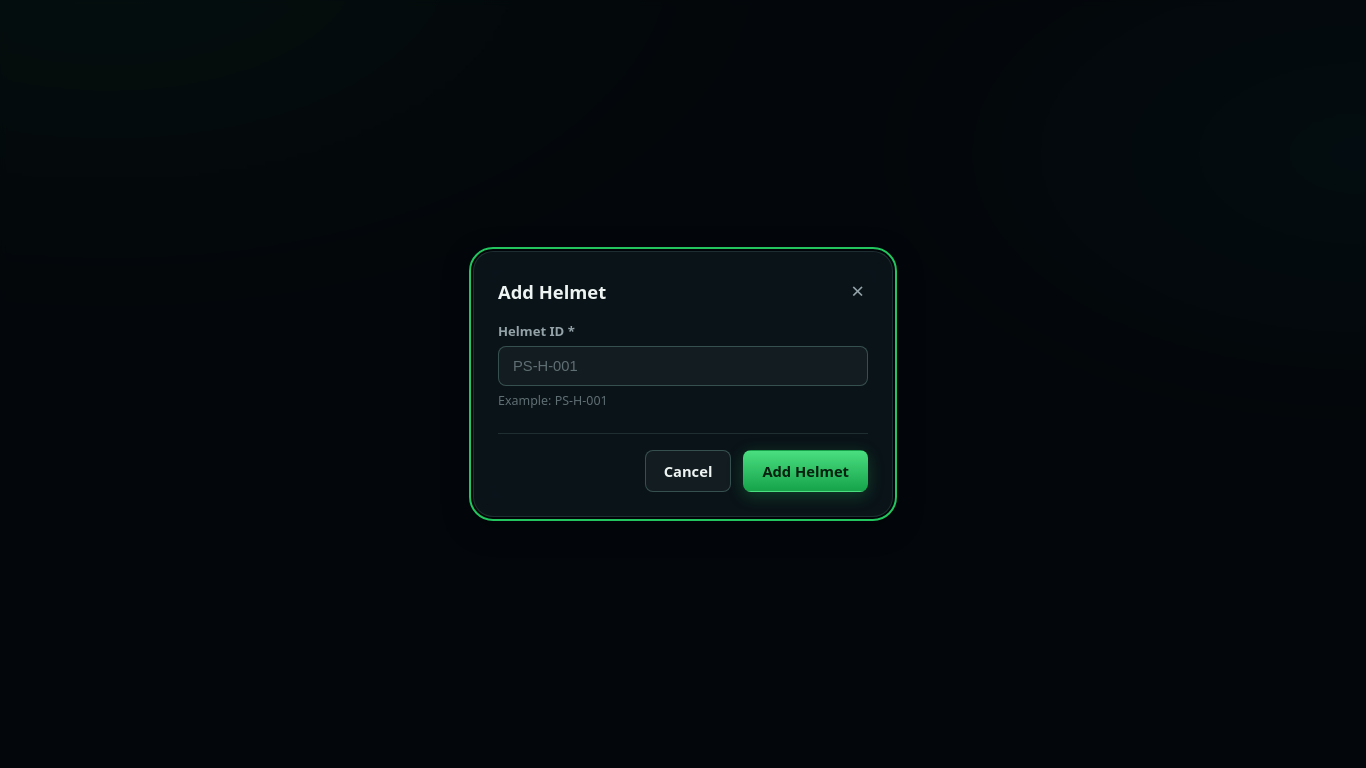
Test: AddHelmetModal › shows 'Helmet ID already exists' on a 409 without a generic toast
Type "PS-H-DUP" into the field labelled "Helmet ID *" at (683, 366), box [498, 346, 868, 386]
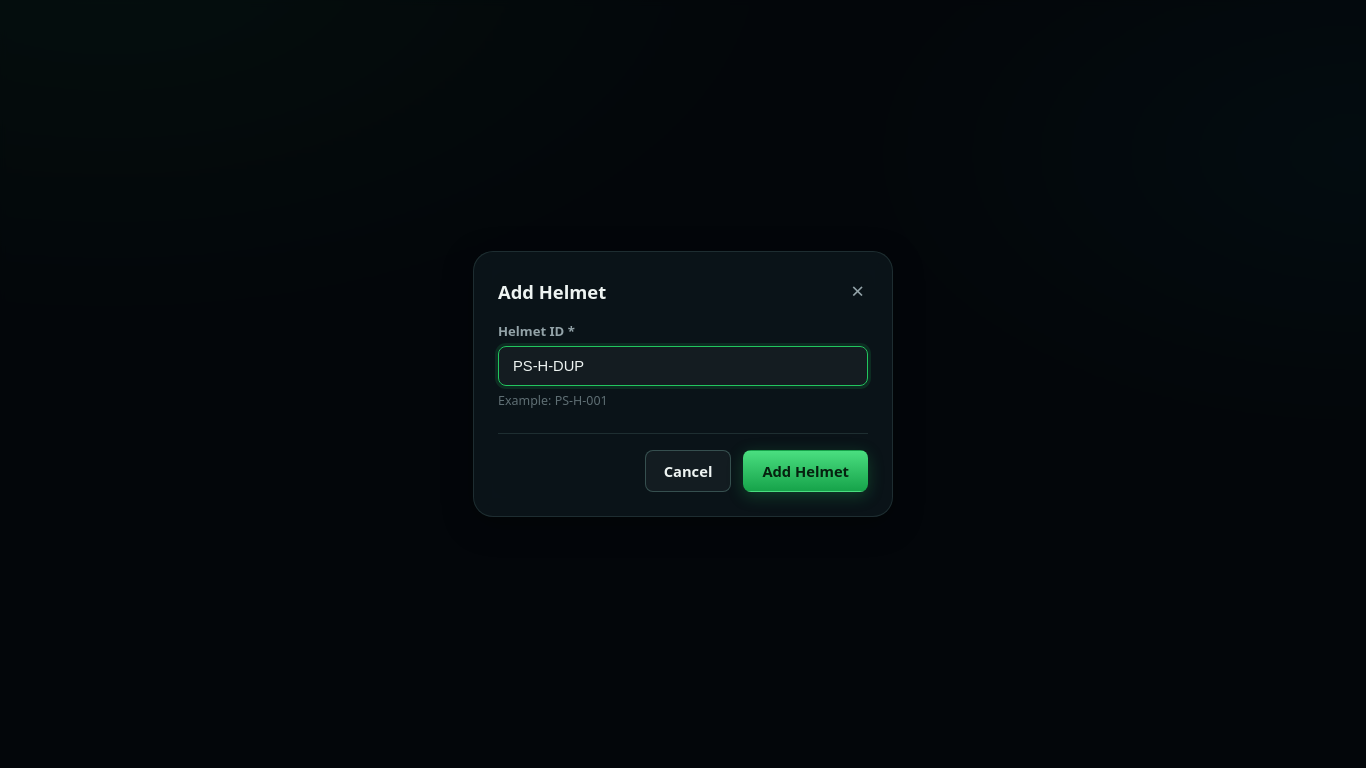
Click the button "Add Helmet" at (806, 471), box [743, 450, 868, 492]
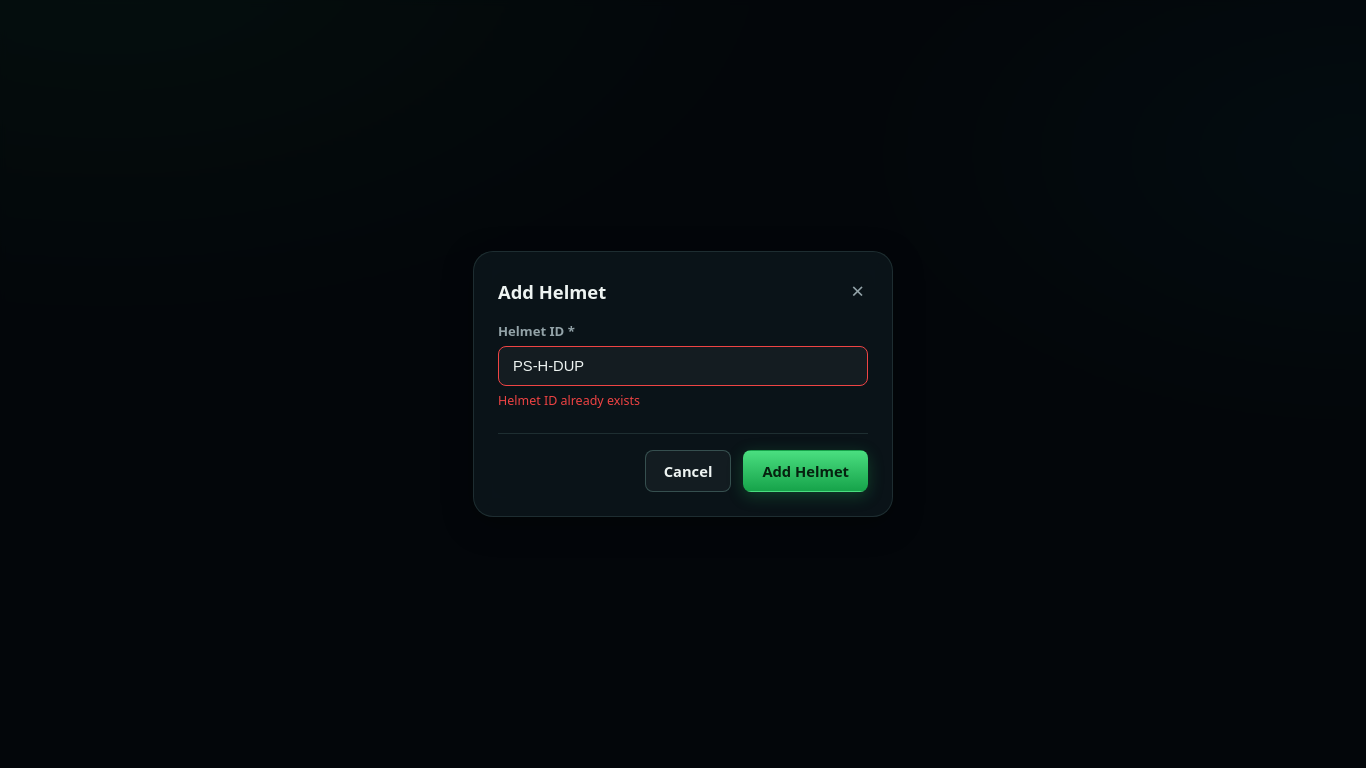
Expected: the text "Helmet ID already exists" is shown, [498, 392, 640, 409]
